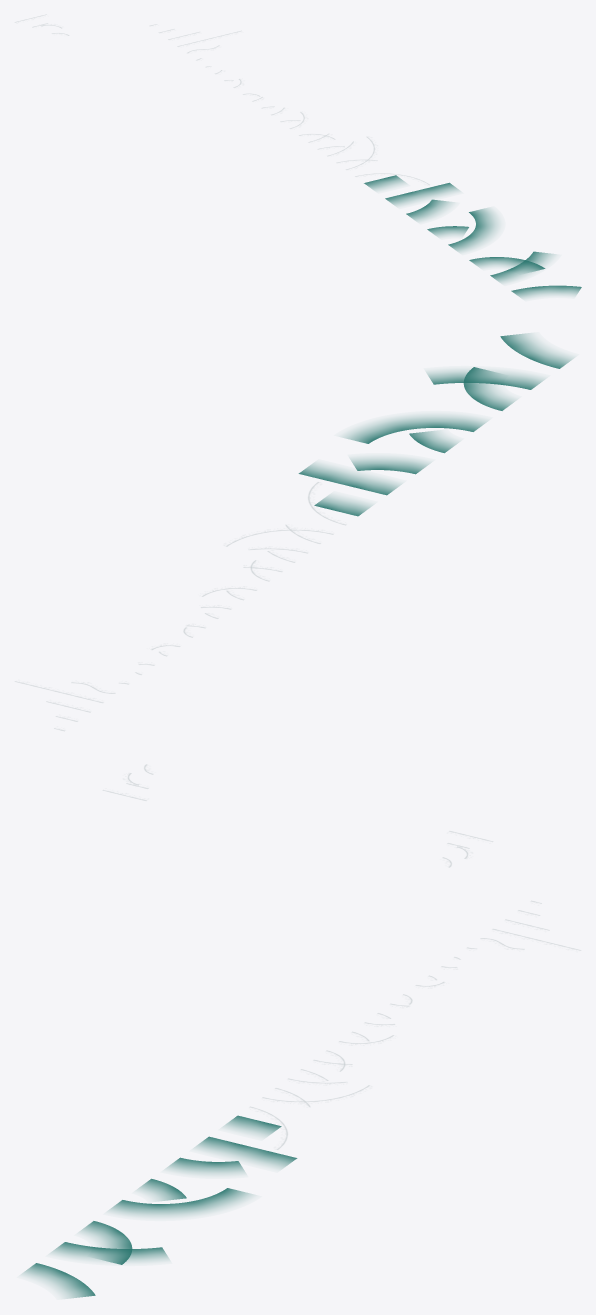
Rendered from shore_foam_strips_v2.glb.
The picture shows the model from 3 angles, top to bottom: view 1: azimuth 30°, elevation 25°; view 2: azimuth 150°, elevation 25°; view 3: azimuth 330°, elevation 25°; orthographic projection. The views are drawn at different scales.
Parts seen in each view (by area): view 1: shore_shallows_arc_out_r24_90, shore_shallows_arc_out_r40_45, shore_shallows_line_32m, shore_shallows_arc_in_r24_90, shore_shallows_arc_in_r40_45, shore_shallows_arc_out_r24_45; view 2: shore_shallows_arc_out_r24_90, shore_shallows_arc_out_r40_45, shore_shallows_line_32m, shore_shallows_arc_in_r24_90, shore_shallows_arc_in_r40_45, shore_shallows_arc_out_r24_45, shore_shallows_line_16m, shore_shallows_arc_in_r24_45; view 3: shore_shallows_arc_out_r24_90, shore_shallows_arc_out_r40_45, shore_shallows_line_32m, shore_shallows_arc_in_r24_90, shore_shallows_arc_in_r40_45, shore_shallows_arc_out_r24_45, shore_shallows_line_16m, shore_shallows_arc_in_r24_45.
Part boxes in pixels (x1,y1,x2,y2): shore_shallows_arc_out_r24_90: (448,208,497,252); shore_shallows_arc_out_r40_45: (490,251,554,282); shore_shallows_line_32m: (385,182,459,205); shore_shallows_arc_in_r24_90: (469,257,545,272); shore_shallows_arc_in_r40_45: (511,285,581,298); shore_shallows_arc_out_r24_45: (406,199,452,221); shore_shallows_arc_out_r24_90: (343,416,486,443); shore_shallows_arc_out_r40_45: (427,370,544,389); shore_shallows_line_32m: (298,463,400,495); shore_shallows_arc_in_r24_90: (463,367,515,410); shore_shallows_arc_in_r40_45: (500,333,572,368); shore_shallows_arc_out_r24_45: (351,458,429,474); shore_shallows_line_16m: (314,495,372,516); shore_shallows_arc_in_r24_45: (409,431,458,453); shore_shallows_arc_out_r24_90: (109,1188,252,1215); shore_shallows_arc_out_r40_45: (51,1242,168,1261); shore_shallows_line_32m: (195,1136,297,1168); shore_shallows_arc_in_r24_90: (80,1221,132,1264); shore_shallows_arc_in_r40_45: (23,1263,95,1298); shore_shallows_arc_out_r24_45: (166,1157,244,1173); shore_shallows_line_16m: (223,1115,281,1136); shore_shallows_arc_in_r24_45: (137,1178,186,1200).
Size of the model in its own units: 86.18 by 0 by 364.
Materials: 2 (1 with a texture image).
